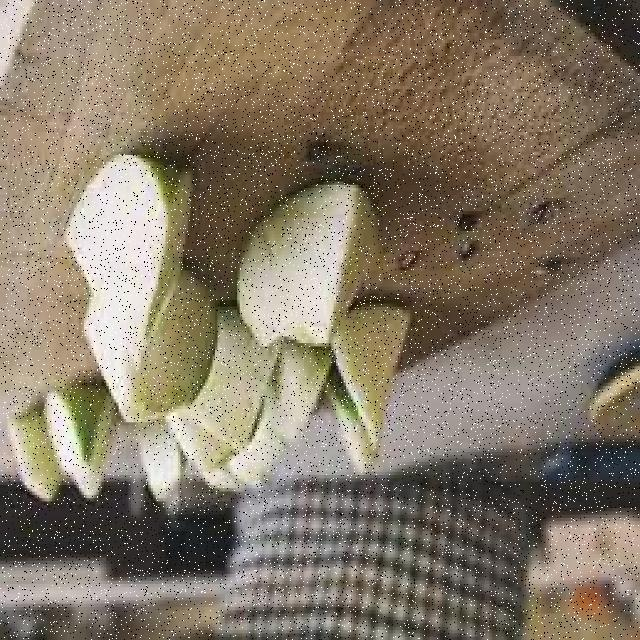Apple: (66, 159, 191, 353), (236, 179, 373, 348), (91, 291, 210, 420), (186, 316, 278, 444), (334, 304, 406, 444), (174, 420, 281, 483), (264, 340, 322, 441), (43, 388, 105, 478), (323, 381, 371, 472), (8, 410, 55, 496)
